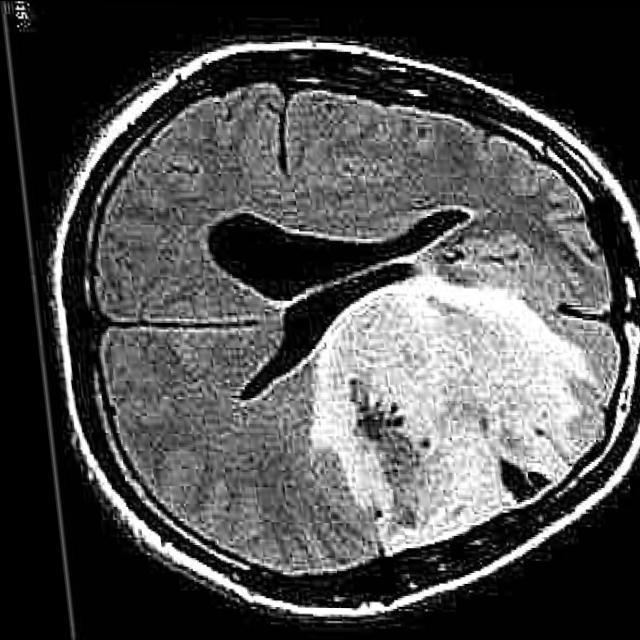Tumor: (300, 272, 592, 554)
